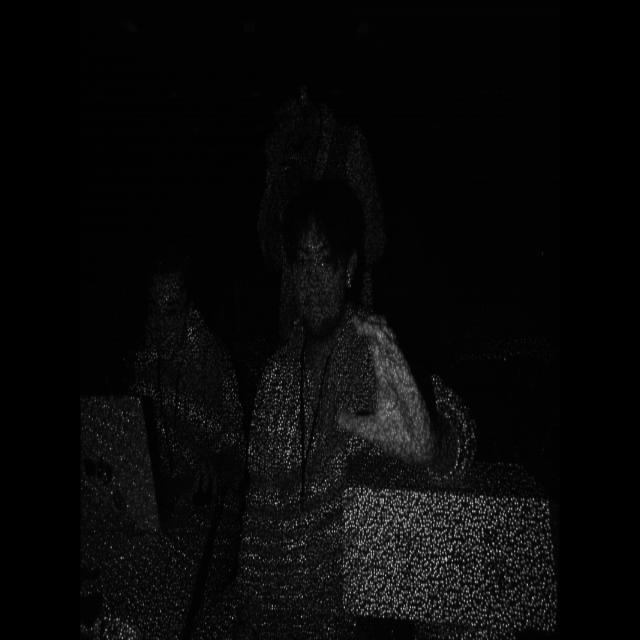C: (317, 281, 455, 493)
